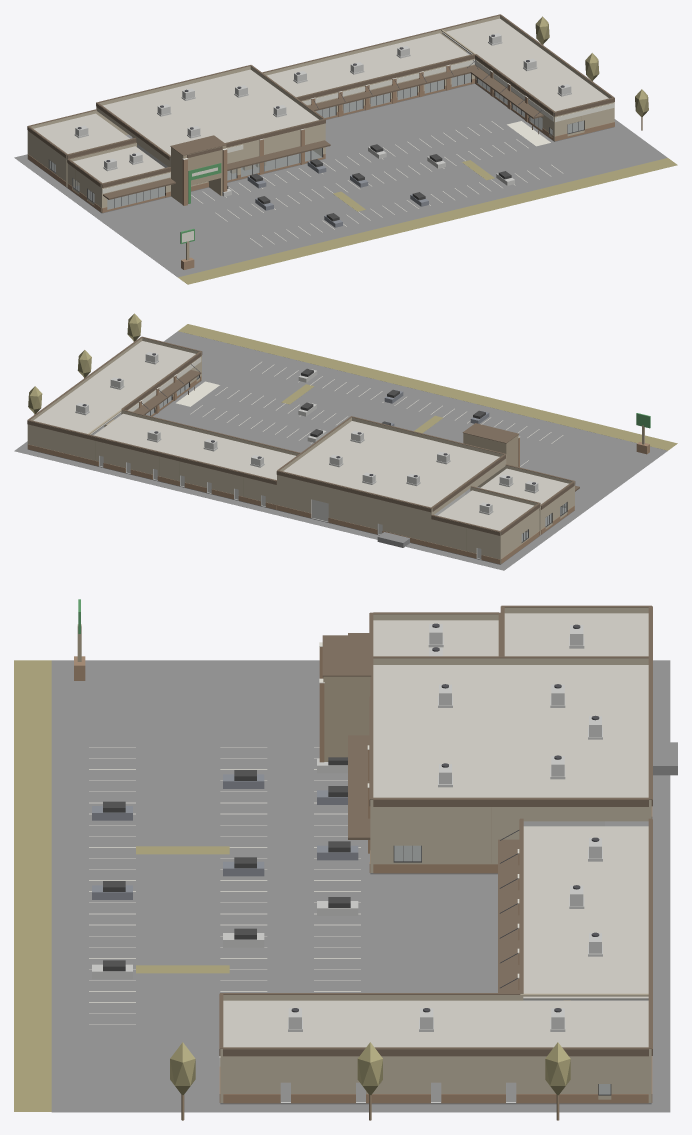
Rendered from clay-anchored-plaza-supermarket-clay-v004.glb.
The picture shows the model from 3 angles, top to bottom: view 1: azimuth 30°, elevation 25°; view 2: azimuth 150°, elevation 25°; view 3: azimuth 270°, elevation 25°; orthographic projection. The views are drawn at different scales.
Parts seen in each view (by area): view 1: CLAY_FOUNDATION, CLAY_ROOF, CLAY_CAP, CLAY_WALL, CLAY_PLANTING, CLAY_CREAM, CLAY_STONE, CLAY_GLASS, CLAY_PALE, CLAY_TAN, CLAY_TRIM, CLAY_CAR (+1 smaller); view 2: CLAY_FOUNDATION, CLAY_ROOF, CLAY_WALL, CLAY_CAP, CLAY_PLANTING, CLAY_PALE, CLAY_STONE, CLAY_CREAM, CLAY_TAN, CLAY_TRIM; view 3: CLAY_FOUNDATION, CLAY_ROOF, CLAY_WALL, CLAY_PLANTING, CLAY_CAP, CLAY_PALE, CLAY_STONE, CLAY_TAN, CLAY_CREAM, CLAY_CAR, CLAY_TRIM.
Part boxes in pixels (<box>): CLAY_FOUNDATION: <box>14,52,667,277</box>; CLAY_ROOF: <box>33,18,608,182</box>; CLAY_CAP: <box>27,14,614,199</box>; CLAY_WALL: <box>27,15,614,212</box>; CLAY_PLANTING: <box>178,16,677,284</box>; CLAY_CREAM: <box>102,59,614,246</box>; CLAY_STONE: <box>28,65,614,269</box>; CLAY_GLASS: <box>49,73,583,209</box>; CLAY_PALE: <box>74,33,571,196</box>; CLAY_TAN: <box>171,145,266,260</box>; CLAY_TRIM: <box>48,73,584,221</box>; CLAY_CAR: <box>247,161,428,227</box>; CLAY_FOUNDATION: <box>14,331,667,570</box>; CLAY_ROOF: <box>33,341,568,530</box>; CLAY_WALL: <box>27,338,574,564</box>; CLAY_CAP: <box>27,336,579,535</box>; CLAY_PLANTING: <box>28,313,677,450</box>; CLAY_PALE: <box>75,352,538,559</box>; CLAY_STONE: <box>27,375,649,564</box>; CLAY_CREAM: <box>128,357,563,466</box>; CLAY_TAN: <box>104,419,644,466</box>; CLAY_TRIM: <box>145,368,567,542</box>; CLAY_FOUNDATION: <box>51,660,677,1112</box>; CLAY_ROOF: <box>223,613,648,1047</box>; CLAY_WALL: <box>220,607,651,1102</box>; CLAY_PLANTING: <box>14,660,570,1111</box>; CLAY_CAP: <box>219,605,652,1056</box>; CLAY_PALE: <box>92,624,604,1102</box>; CLAY_STONE: <box>74,647,652,1103</box>; CLAY_TAN: <box>77,624,570,1000</box>; CLAY_CREAM: <box>89,642,519,1066</box>; CLAY_CAR: <box>92,774,358,899</box>; CLAY_TRIM: <box>103,757,611,1095</box>.
Bounding box in the file's own units: 117 × 11.3 × 70.8.
